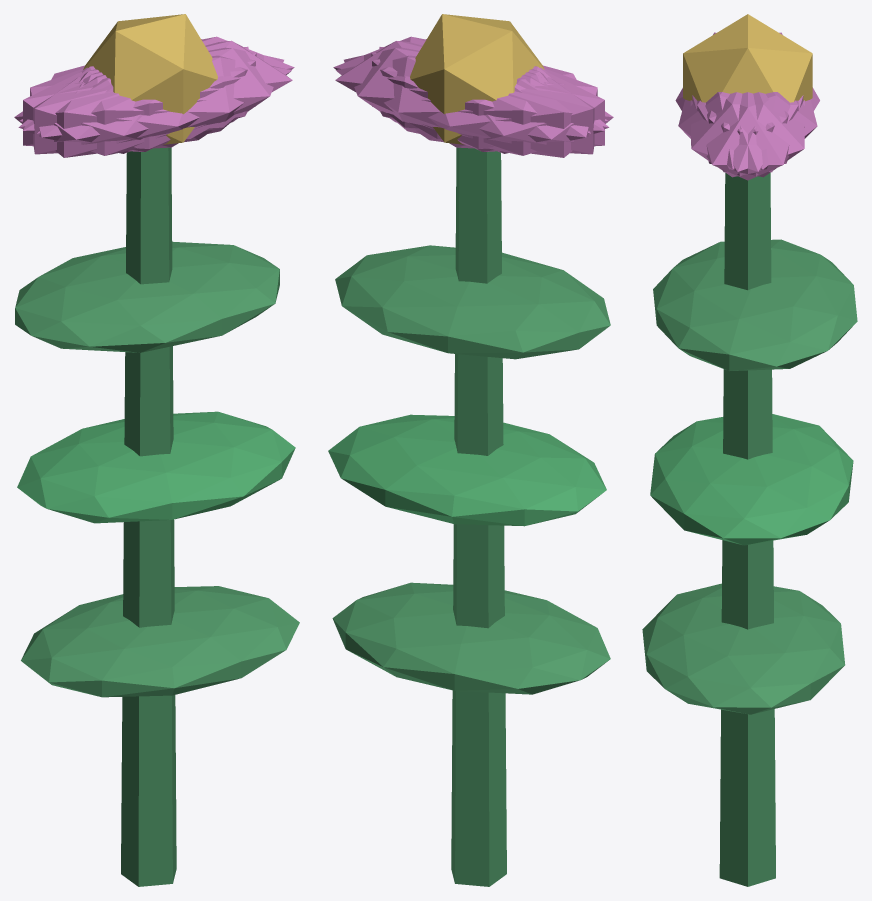
Rendered from nelsonia-canescens.glb.
3 renders of one model, left to right at view 1: azimuth 30°, elevation 25°; view 2: azimuth 150°, elevation 25°; view 3: azimuth 270°, elevation 25°, orthographic.
Visible parts, largest first — view 1: stem, leaf0, leaf1, leaf2, center, petal1, petal6, petal2, petal5, petal7, petal0, petal4 (+2 smaller); view 2: stem, leaf2, leaf1, leaf0, center, petal8, petal3, petal7, petal4, petal2, petal0, petal5 (+2 smaller); view 3: stem, leaf1, leaf2, leaf0, center, petal0, petal5, petal4, petal8, petal1.
Part boxes in pixels (<box>): stem: <box>121,147,176,886</box>; leaf0: <box>21,586,299,697</box>; leaf1: <box>17,411,295,523</box>; leaf2: <box>15,241,279,352</box>; center: <box>83,14,217,144</box>; petal1: <box>18,55,291,155</box>; petal6: <box>14,67,211,157</box>; petal2: <box>33,46,248,154</box>; petal5: <box>37,47,283,148</box>; petal7: <box>23,52,256,151</box>; petal0: <box>83,40,292,139</box>; petal4: <box>20,36,294,130</box>; stem: <box>451,147,506,886</box>; leaf2: <box>335,245,610,359</box>; leaf1: <box>328,414,606,526</box>; leaf0: <box>332,582,610,694</box>; center: <box>410,14,544,144</box>; petal8: <box>336,55,609,155</box>; petal3: <box>416,67,613,157</box>; petal7: <box>379,47,594,154</box>; petal4: <box>344,47,590,148</box>; petal2: <box>371,52,604,151</box>; petal0: <box>335,41,544,139</box>; petal5: <box>333,36,607,130</box>; stem: <box>719,172,775,886</box>; leaf1: <box>650,414,853,545</box>; leaf2: <box>653,239,857,371</box>; leaf0: <box>642,583,845,714</box>; center: <box>683,14,812,102</box>; petal0: <box>692,92,803,180</box>; petal5: <box>690,92,798,177</box>; petal4: <box>697,92,804,177</box>; petal8: <box>707,92,817,169</box>; petal1: <box>678,92,788,169</box>.
Bounding box in the file's own units: 0.1452 × 0.4397 × 0.1016.
